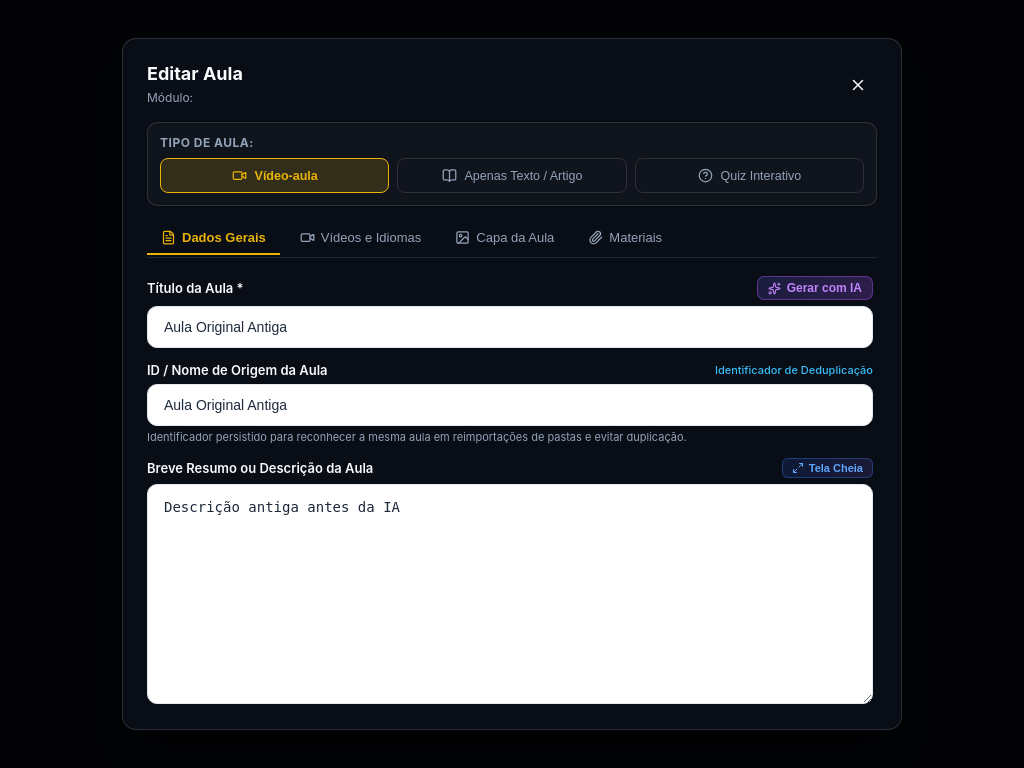
Scenario: LessonModal & ConfirmDeleteModal Components › renders "Gerar com IA" button on LessonModal when editingLesson is provided and updates fields on confirm
Clica no botão para abrir confirmação
Click the button with test id "btn-generate-lesson-ai-metadata": [815, 288] box [757,276,873,300]
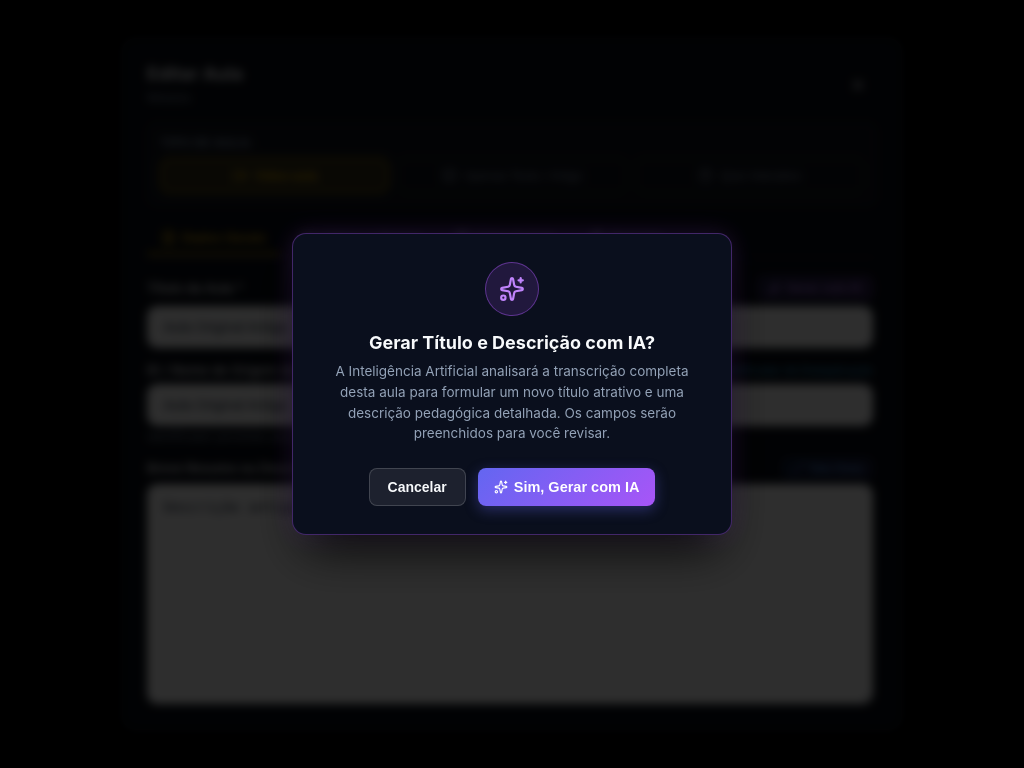
Result: the dialog with test id "confirm-generate-ai-metadata-modal" is shown at [292,233,732,535]
Result: the heading "Gerar Título e Descrição com IA?" is shown at [369,332,655,353]
Click the button with test id "confirm-generate-ai-metadata-btn": [567, 487] box [478,468,655,506]
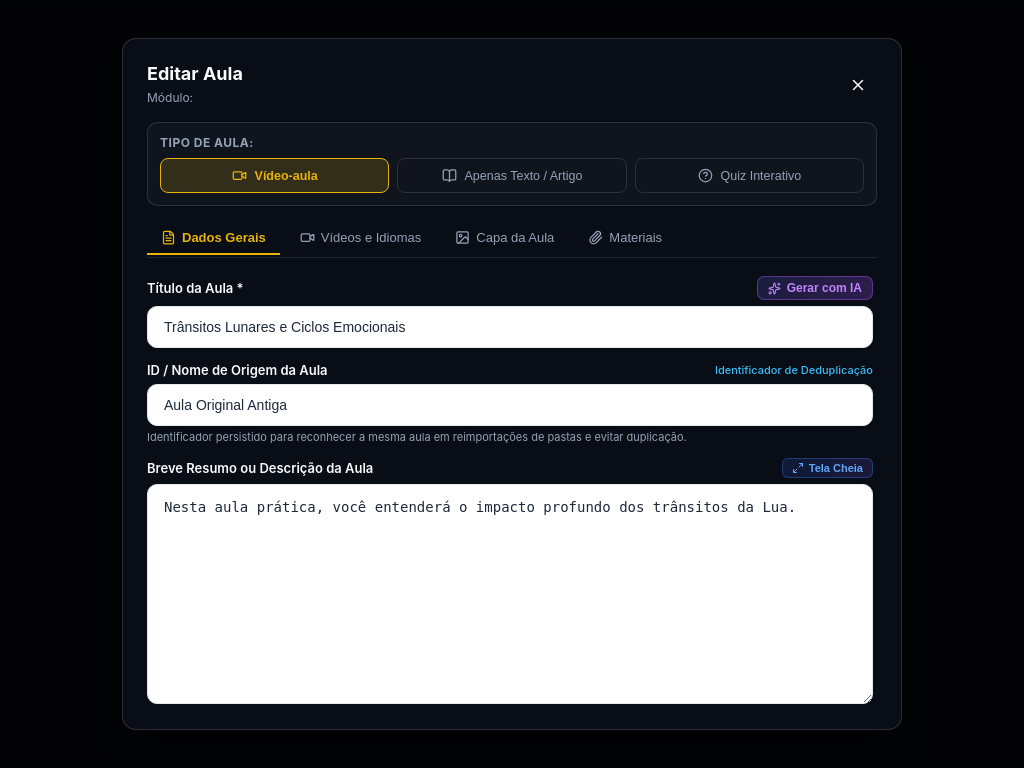
Result: the field with test id "lesson-title-input" holds "Trânsitos Lunares e Ciclos Emocionais" at [147,306,873,348]
Result: the text box with test id "lesson-description-input" holds "Nesta aula prática, você entenderá o impacto profundo dos trânsitos da Lua." at [147,484,873,704]
